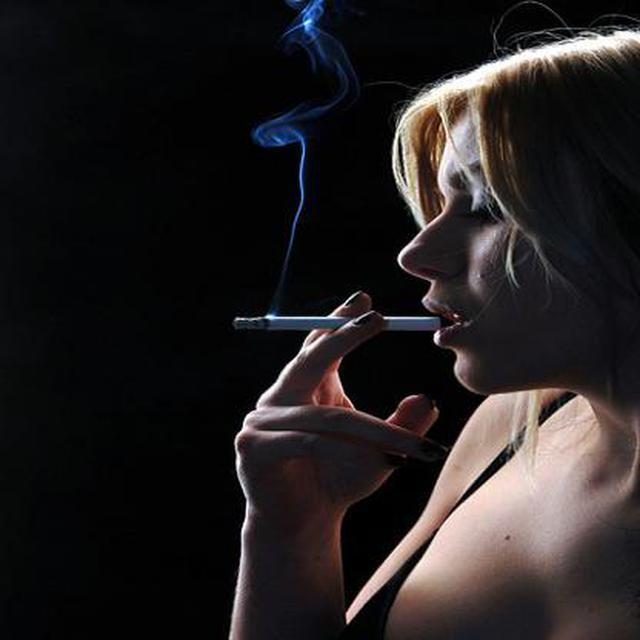smoking: (228, 304, 454, 344)
